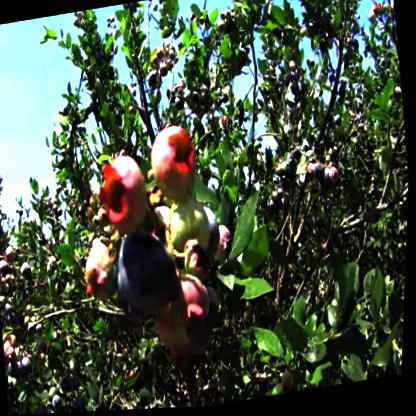intermediate: (151, 275, 215, 359), (146, 125, 203, 211), (102, 150, 156, 237), (83, 237, 122, 310), (282, 369, 299, 396), (5, 337, 22, 362), (84, 206, 97, 234), (99, 208, 110, 233), (150, 54, 160, 72), (329, 172, 341, 185), (91, 193, 100, 209), (158, 48, 166, 65), (376, 5, 385, 17)
mature: (114, 232, 182, 321), (54, 392, 69, 414), (22, 358, 39, 377), (73, 395, 89, 412), (21, 263, 35, 281), (288, 161, 299, 183), (10, 360, 23, 378), (297, 85, 310, 100), (317, 167, 327, 186), (175, 97, 185, 113), (339, 88, 348, 103), (320, 43, 327, 61), (318, 218, 327, 231), (335, 117, 344, 130), (329, 154, 341, 163), (2, 261, 12, 271), (222, 95, 231, 106), (353, 41, 360, 53), (193, 91, 199, 105), (41, 404, 49, 414), (329, 75, 337, 85), (295, 151, 303, 161), (48, 409, 59, 414)
young: (167, 204, 209, 264), (47, 251, 61, 275), (365, 10, 379, 25), (26, 302, 37, 318), (153, 3, 160, 13)
